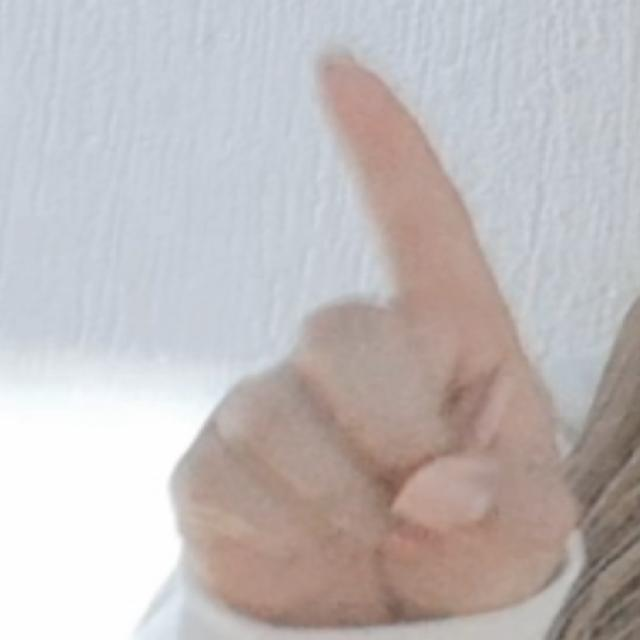Z: (164, 45, 591, 615)
